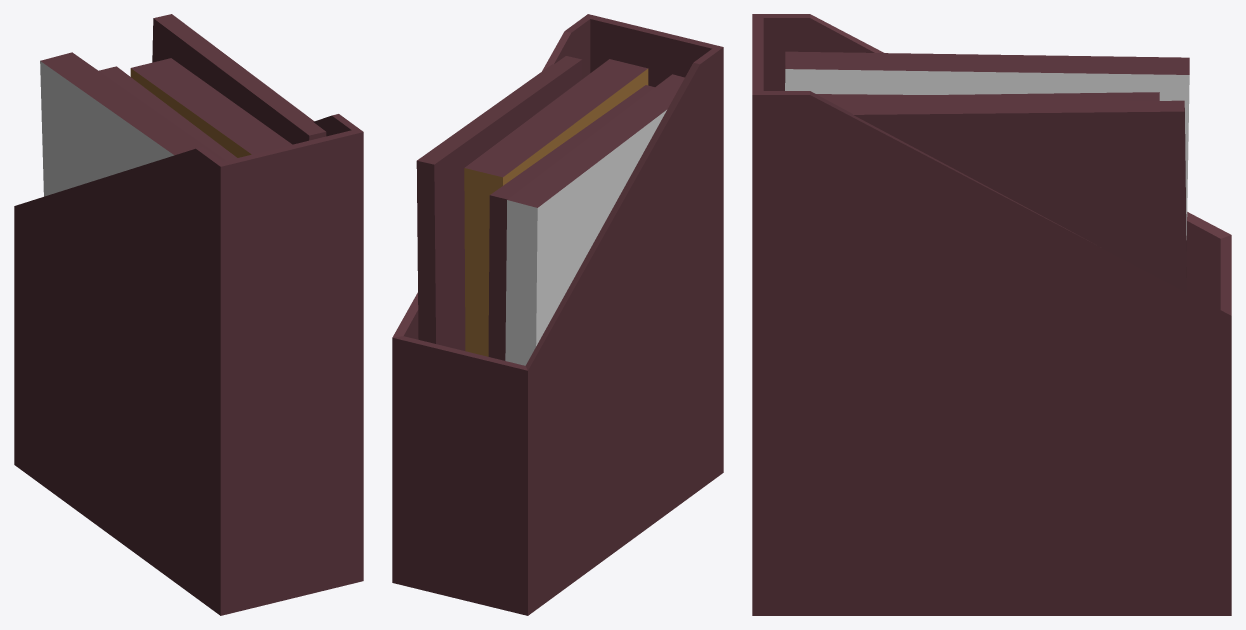
The model's file is holder-file-full.fbx.
The picture shows the model from 3 angles, left to right: view 1: azimuth 30°, elevation 25°; view 2: azimuth 150°, elevation 25°; view 3: azimuth 270°, elevation 25°; orthographic projection. The views are drawn at different scales.
Visible parts, largest first — view 1: holder-file-full; view 2: holder-file-full; view 3: holder-file-full.
Part boxes in pixels (x1,y1,x2,y2): holder-file-full: [14, 14, 363, 615]; holder-file-full: [392, 14, 723, 615]; holder-file-full: [752, 14, 1231, 615].
Size of the model in its own units: 0.1 by 0.3 by 0.25.
